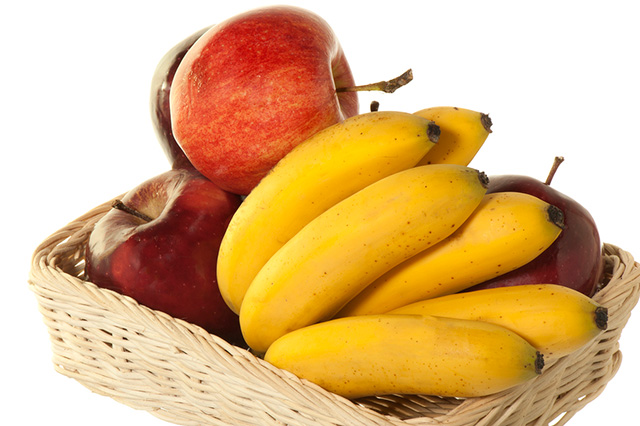banana: (237, 167, 487, 335), (256, 315, 560, 395), (470, 280, 614, 365), (318, 109, 440, 183), (465, 187, 567, 262), (434, 101, 501, 167)
